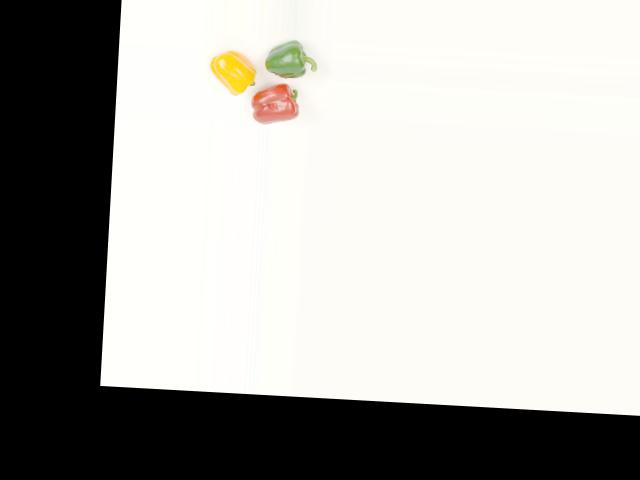bell_pepper: (263, 38, 320, 82)
